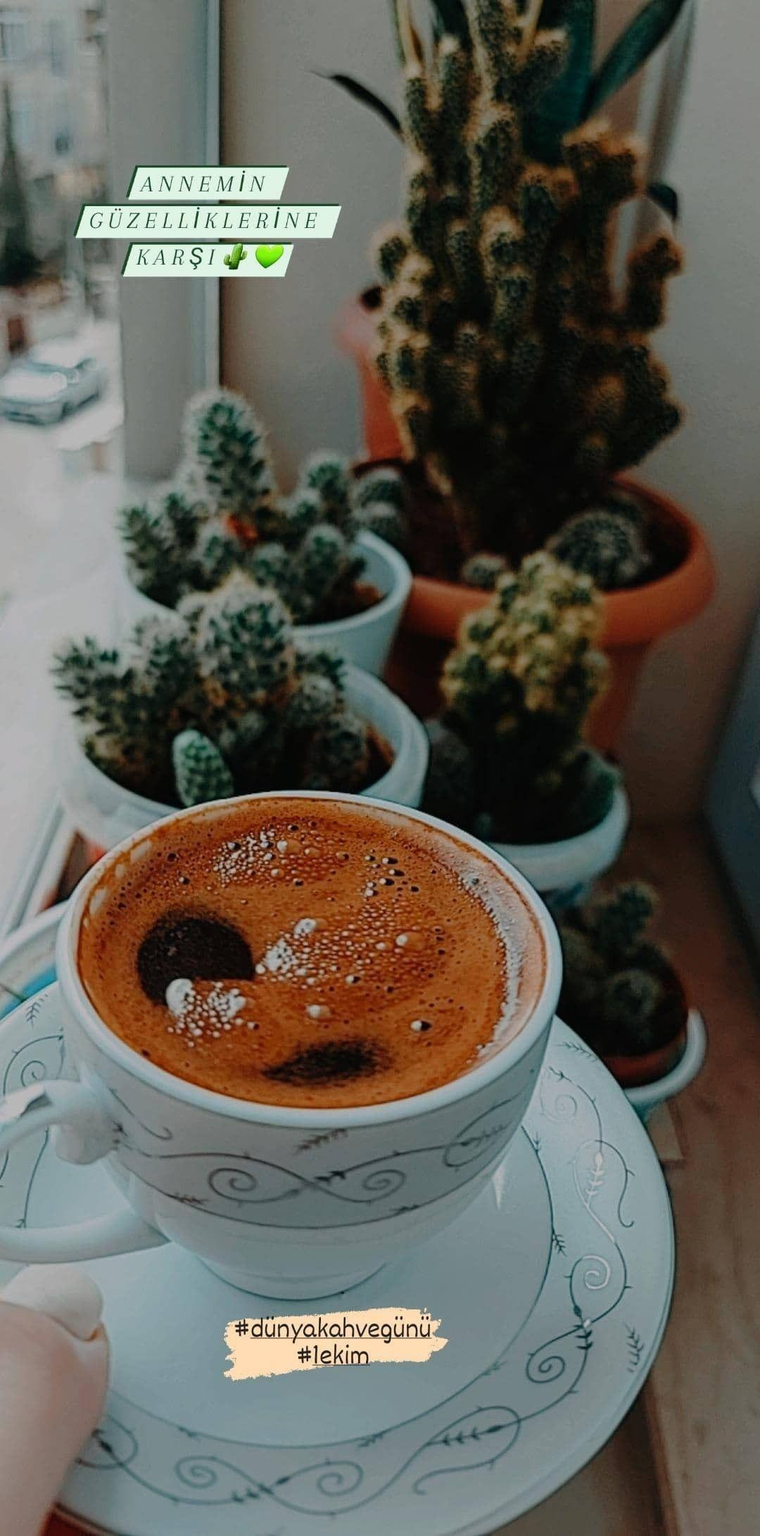cup-handle: (0, 786, 566, 1302)
